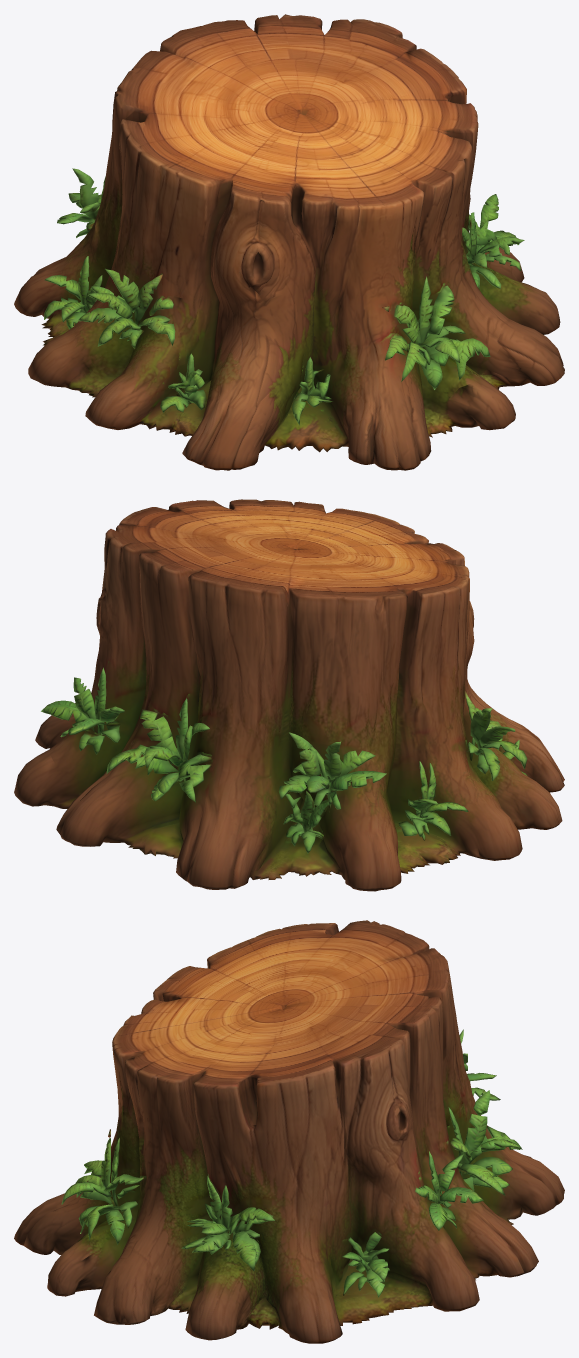
Rendered from tree_strump.glb.
3 renders of one model, top to bottom at view 1: azimuth 30°, elevation 25°; view 2: azimuth 150°, elevation 25°; view 3: azimuth 270°, elevation 25°, orthographic. The views are drawn at different scales.
Parts seen in each view (by area): view 1: tripo_node_579311af-6e31-447a-b343-f63a5251952f; view 2: tripo_node_579311af-6e31-447a-b343-f63a5251952f; view 3: tripo_node_579311af-6e31-447a-b343-f63a5251952f.
Part boxes in pixels (x1,y1,x2,y2): tripo_node_579311af-6e31-447a-b343-f63a5251952f: (14, 14, 564, 470); tripo_node_579311af-6e31-447a-b343-f63a5251952f: (14, 499, 564, 891); tripo_node_579311af-6e31-447a-b343-f63a5251952f: (14, 920, 564, 1343).
Size of the model in its own units: 0.9673 by 0.544 by 0.9788.
Materials: 1 (1 with a texture image).
